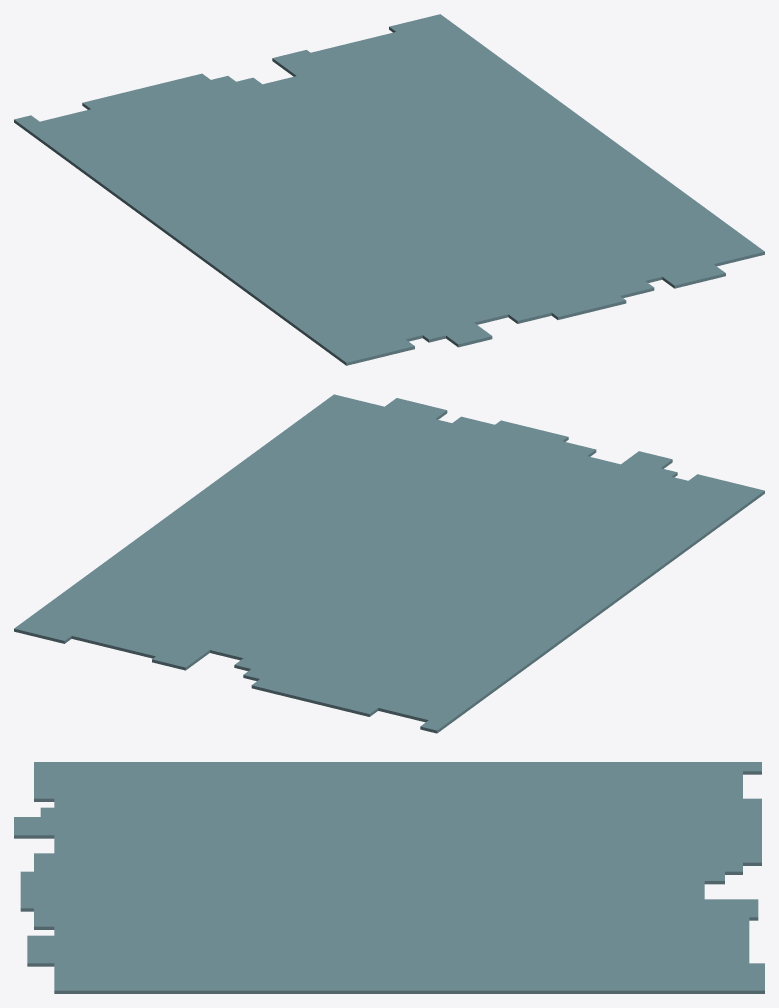
File: woodenfloor3_lp.fbx
3 views of the same model, one above another, from view 1: azimuth 30°, elevation 25°; view 2: azimuth 150°, elevation 25°; view 3: azimuth 270°, elevation 25° (orthographic). The views are drawn at different scales.
Parts seen in each view (by area): view 1: woodenfloor3_LP; view 2: woodenfloor3_LP; view 3: woodenfloor3_LP.
Part boxes in pixels (bbox=[...]): woodenfloor3_LP: bbox=[14, 14, 764, 365]; woodenfloor3_LP: bbox=[14, 394, 764, 733]; woodenfloor3_LP: bbox=[14, 762, 764, 993].
Size of the model in its own units: 806 by 5.5 by 1120.
